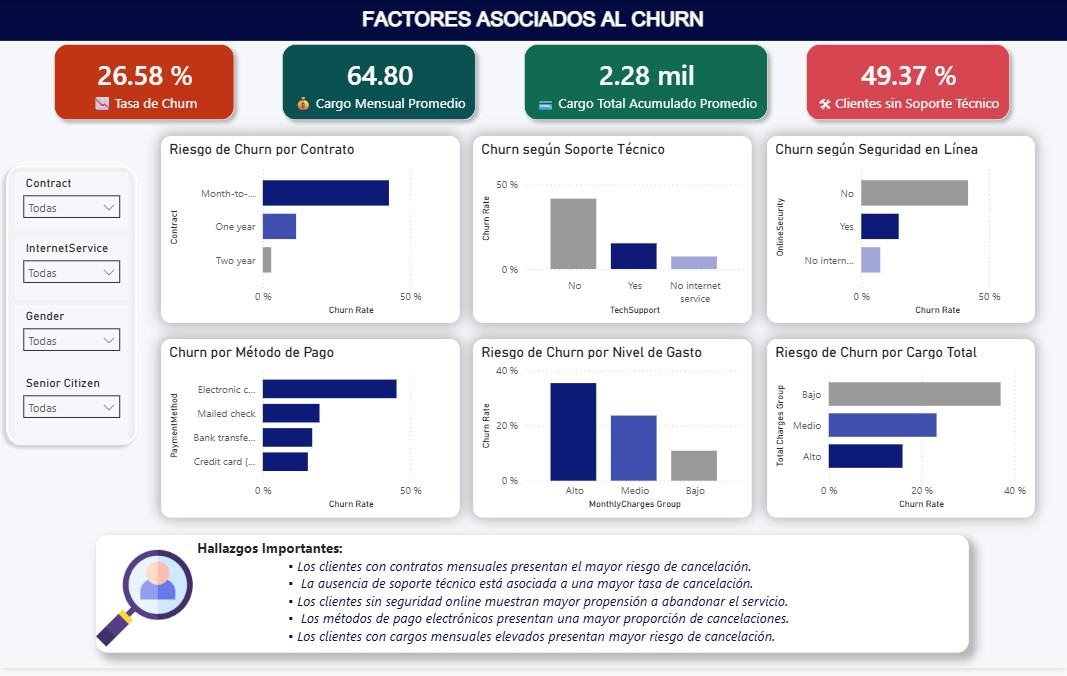

The dashboard page shown, as its layout file describes it:
{"tool":"powerbi","page":{"name":"Riesgo de Cancelación","canvas":[1280,720],"ordinal":2},"visuals":[{"type":"shape","box":[0,189.7,174.7,352.4],"z":0},{"type":"shape","box":[116,641.5,1046.6,78.3],"z":0,"group":"g1"},{"type":"cardVisual","fields":{"Data":["WA_Fn-UseC_-Telco-Customer-Churn.Cargo Total Avg"]},"box":[600.8,24.1,350.9,149.1],"z":1000},{"type":"cardVisual","fields":{"Data":["WA_Fn-UseC_-Telco-Customer-Churn.% Clientes Sin ST"]},"box":[938.2,24.1,302.7,149.1],"z":2000},{"type":"cardVisual","fields":{"Data":["WA_Fn-UseC_-Telco-Customer-Churn.Cargo Mensual Avg"]},"box":[310.2,24.1,290.6,149.1],"z":3000},{"type":"cardVisual","fields":{"Data":["WA_Fn-UseC_-Telco-Customer-Churn.Churn Rate"]},"box":[37.6,24.1,274.1,149.1],"z":4000},{"type":"columnChart","title":"Riesgo de Churn por Nivel de Gasto","fields":{"Category":["WA_Fn-UseC_-Telco-Customer-Churn.MonthlyCharges Group "],"Y":["WA_Fn-UseC_-Telco-Customer-Churn.Churn Rate"]},"box":[567.7,406.6,334.3,213.8],"z":5000},{"type":"barChart","title":"Riesgo de Churn por Cargo Total","fields":{"Category":["WA_Fn-UseC_-Telco-Customer-Churn.Total Charges Group"],"Y":["WA_Fn-UseC_-Telco-Customer-Churn.Churn Rate"]},"box":[920.1,406.6,320.8,213.8],"z":6000},{"type":"columnChart","title":"Churn según Soporte Técnico","fields":{"Category":["WA_Fn-UseC_-Telco-Customer-Churn.TechSupport"],"Y":["WA_Fn-UseC_-Telco-Customer-Churn.Churn Rate"]},"box":[567.7,162.6,334.3,224.4],"z":7000},{"type":"barChart","title":"Churn según Seguridad en Línea","fields":{"Category":["WA_Fn-UseC_-Telco-Customer-Churn.OnlineSecurity"],"Y":["WA_Fn-UseC_-Telco-Customer-Churn.Churn Rate"]},"box":[920.1,162.6,320.8,224.4],"z":8000},{"type":"clusteredBarChart","title":"Riesgo de Churn por Contrato","fields":{"Category":["WA_Fn-UseC_-Telco-Customer-Churn.Contract"],"Y":["WA_Fn-UseC_-Telco-Customer-Churn.Churn Rate"]},"box":[194.3,162.6,358.4,224.4],"z":9000},{"type":"barChart","title":"Churn por Método de Pago","fields":{"Category":["WA_Fn-UseC_-Telco-Customer-Churn.PaymentMethod"],"Y":["WA_Fn-UseC_-Telco-Customer-Churn.Churn Rate"]},"box":[194.3,406.6,358.4,213.8],"z":10000},{"type":"textbox","box":[0,0,1280,49],"z":11000},{"type":"slicer","fields":{"Values":["WA_Fn-UseC_-Telco-Customer-Churn.Contract"]},"box":[19.6,206.3,135.5,69.3],"z":12000},{"type":"textbox","box":[232,641.5,930.6,78.3],"z":12000,"group":"g1"},{"type":"slicer","fields":{"Values":["WA_Fn-UseC_-Telco-Customer-Churn.InternetService"]},"box":[19.6,284.6,135.5,75.3],"z":13000},{"type":"slicer","fields":{"Values":["WA_Fn-UseC_-Telco-Customer-Churn.Gender"]},"box":[19.6,365.9,135.5,79.8],"z":14000},{"type":"slicer","fields":{"Values":["WA_Fn-UseC_-Telco-Customer-Churn.Senior Citizen Texto"]},"box":[19.6,445.7,135.5,87.3],"z":15000},{"type":"group","id":"g1","title":"Grupo 1","box":[116,641.5,1046.6,78.3],"z":16000},{"type":"image","box":[116,647.5,116,72.3],"z":16001,"group":"g1"}]}

Visuals, with their boxes on the page's 1280x720 design canvas (x1, y1, x2, y2). These are canvas units, not pixel positions in the 1067x676 screenshot, which may show the page scaled, cropped or inside an application window:
shape: bbox(0, 190, 175, 542)
shape: bbox(116, 642, 1163, 720)
cardVisual - WA_Fn-UseC_-Telco-Customer-Churn.Cargo Total Avg: bbox(601, 24, 952, 173)
cardVisual - WA_Fn-UseC_-Telco-Customer-Churn.% Clientes Sin ST: bbox(938, 24, 1241, 173)
cardVisual - WA_Fn-UseC_-Telco-Customer-Churn.Cargo Mensual Avg: bbox(310, 24, 601, 173)
cardVisual - WA_Fn-UseC_-Telco-Customer-Churn.Churn Rate: bbox(38, 24, 312, 173)
"Riesgo de Churn por Nivel de Gasto" columnChart: bbox(568, 407, 902, 620)
"Riesgo de Churn por Cargo Total" barChart: bbox(920, 407, 1241, 620)
"Churn según Soporte Técnico" columnChart: bbox(568, 163, 902, 387)
"Churn según Seguridad en Línea" barChart: bbox(920, 163, 1241, 387)
"Riesgo de Churn por Contrato" clusteredBarChart: bbox(194, 163, 553, 387)
"Churn por Método de Pago" barChart: bbox(194, 407, 553, 620)
textbox: bbox(0, 0, 1280, 49)
slicer - WA_Fn-UseC_-Telco-Customer-Churn.Contract: bbox(20, 206, 155, 276)
textbox: bbox(232, 642, 1163, 720)
slicer - WA_Fn-UseC_-Telco-Customer-Churn.InternetService: bbox(20, 285, 155, 360)
slicer - WA_Fn-UseC_-Telco-Customer-Churn.Gender: bbox(20, 366, 155, 446)
slicer - WA_Fn-UseC_-Telco-Customer-Churn.Senior Citizen Texto: bbox(20, 446, 155, 533)
"Grupo 1" group: bbox(116, 642, 1163, 720)
image: bbox(116, 648, 232, 720)
